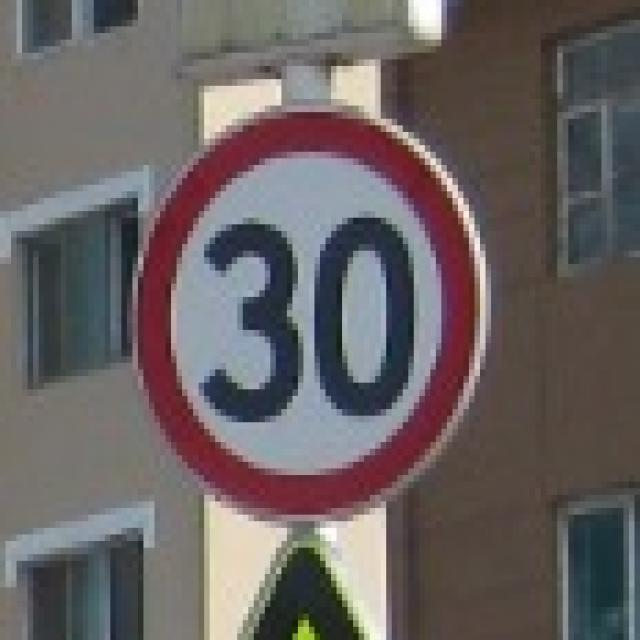Speed Limit -30-: (197, 213, 418, 426)
